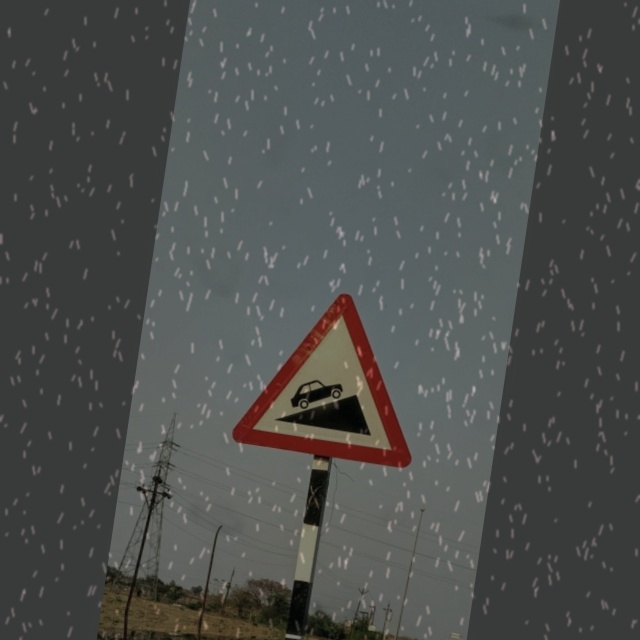Steep_Ascent: (232, 281, 435, 474)
